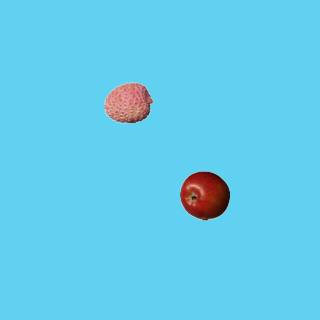Apple Braeburn: (179, 170, 229, 220)
Lychee: (103, 77, 153, 127)
